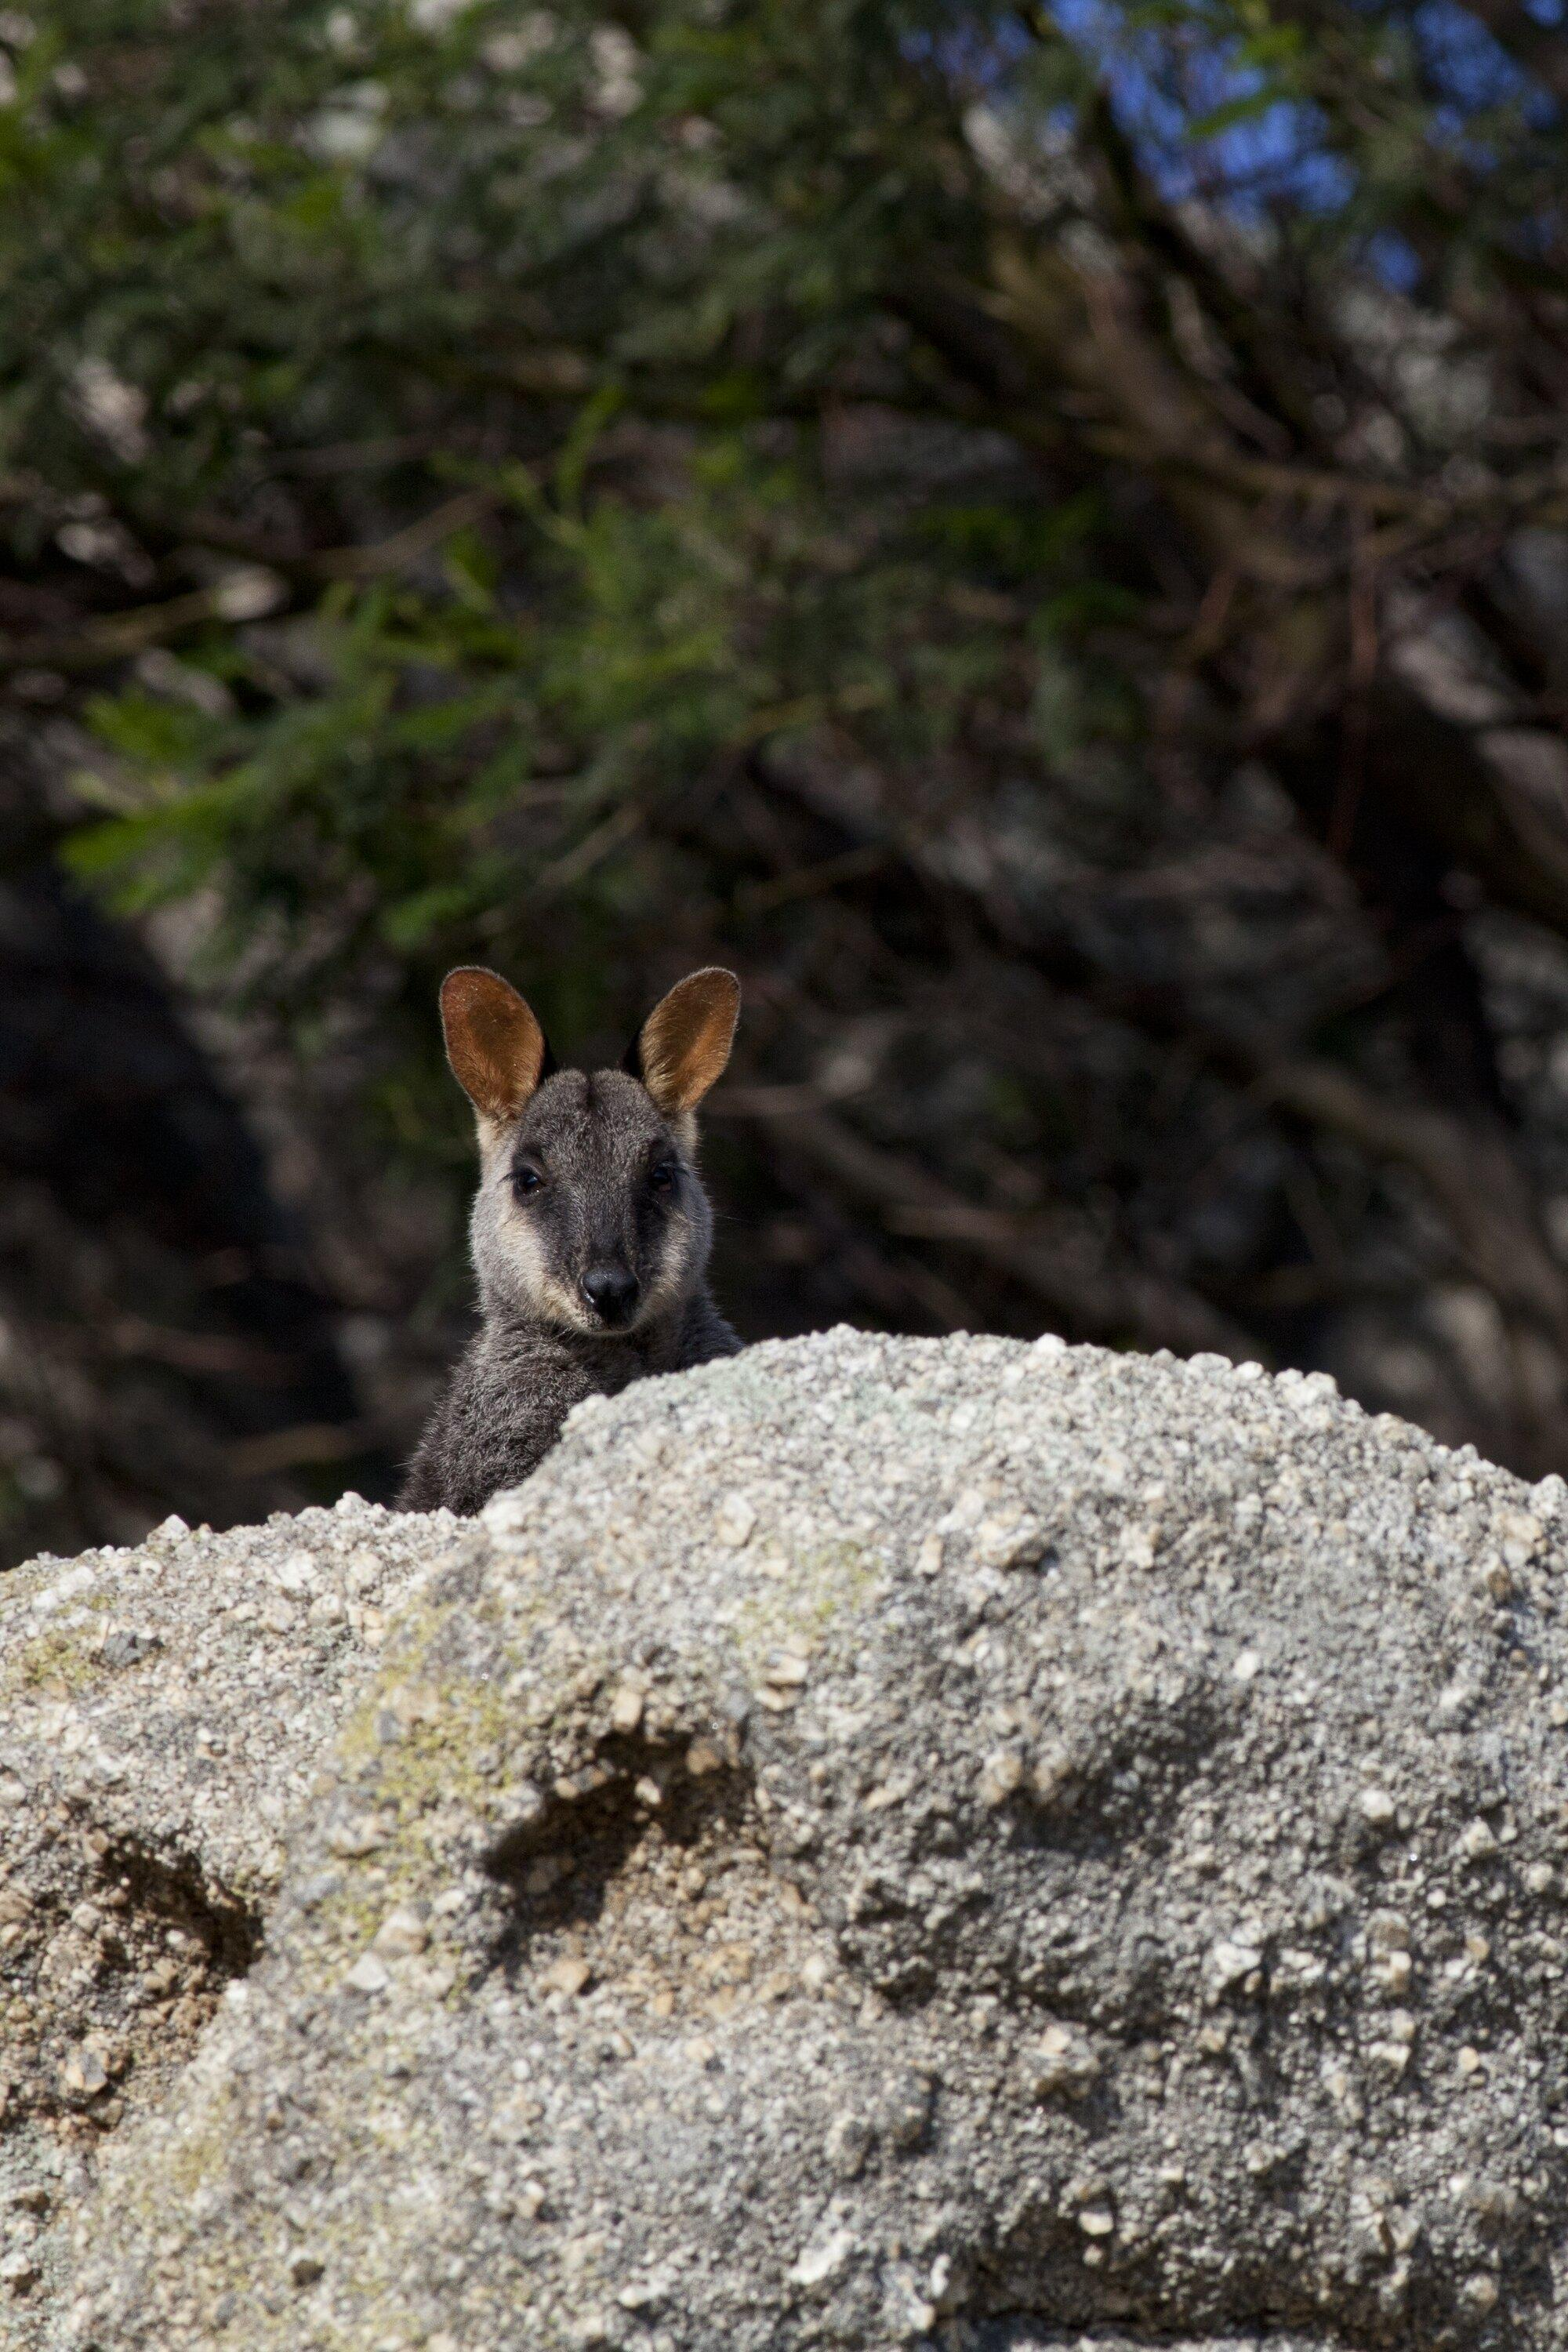Brush-tailed rock-wallaby: (369, 952, 761, 1641)
